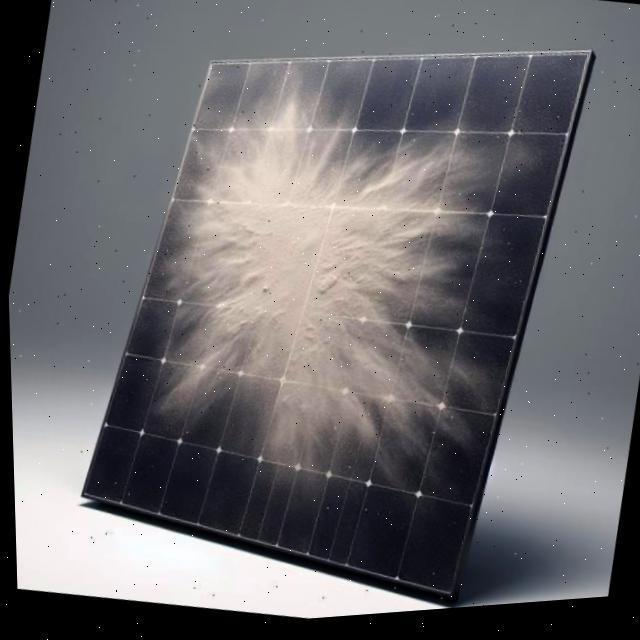Anomaly Solar Panel: (72, 0, 586, 602)
Surface Contaminant: (97, 42, 562, 538)
